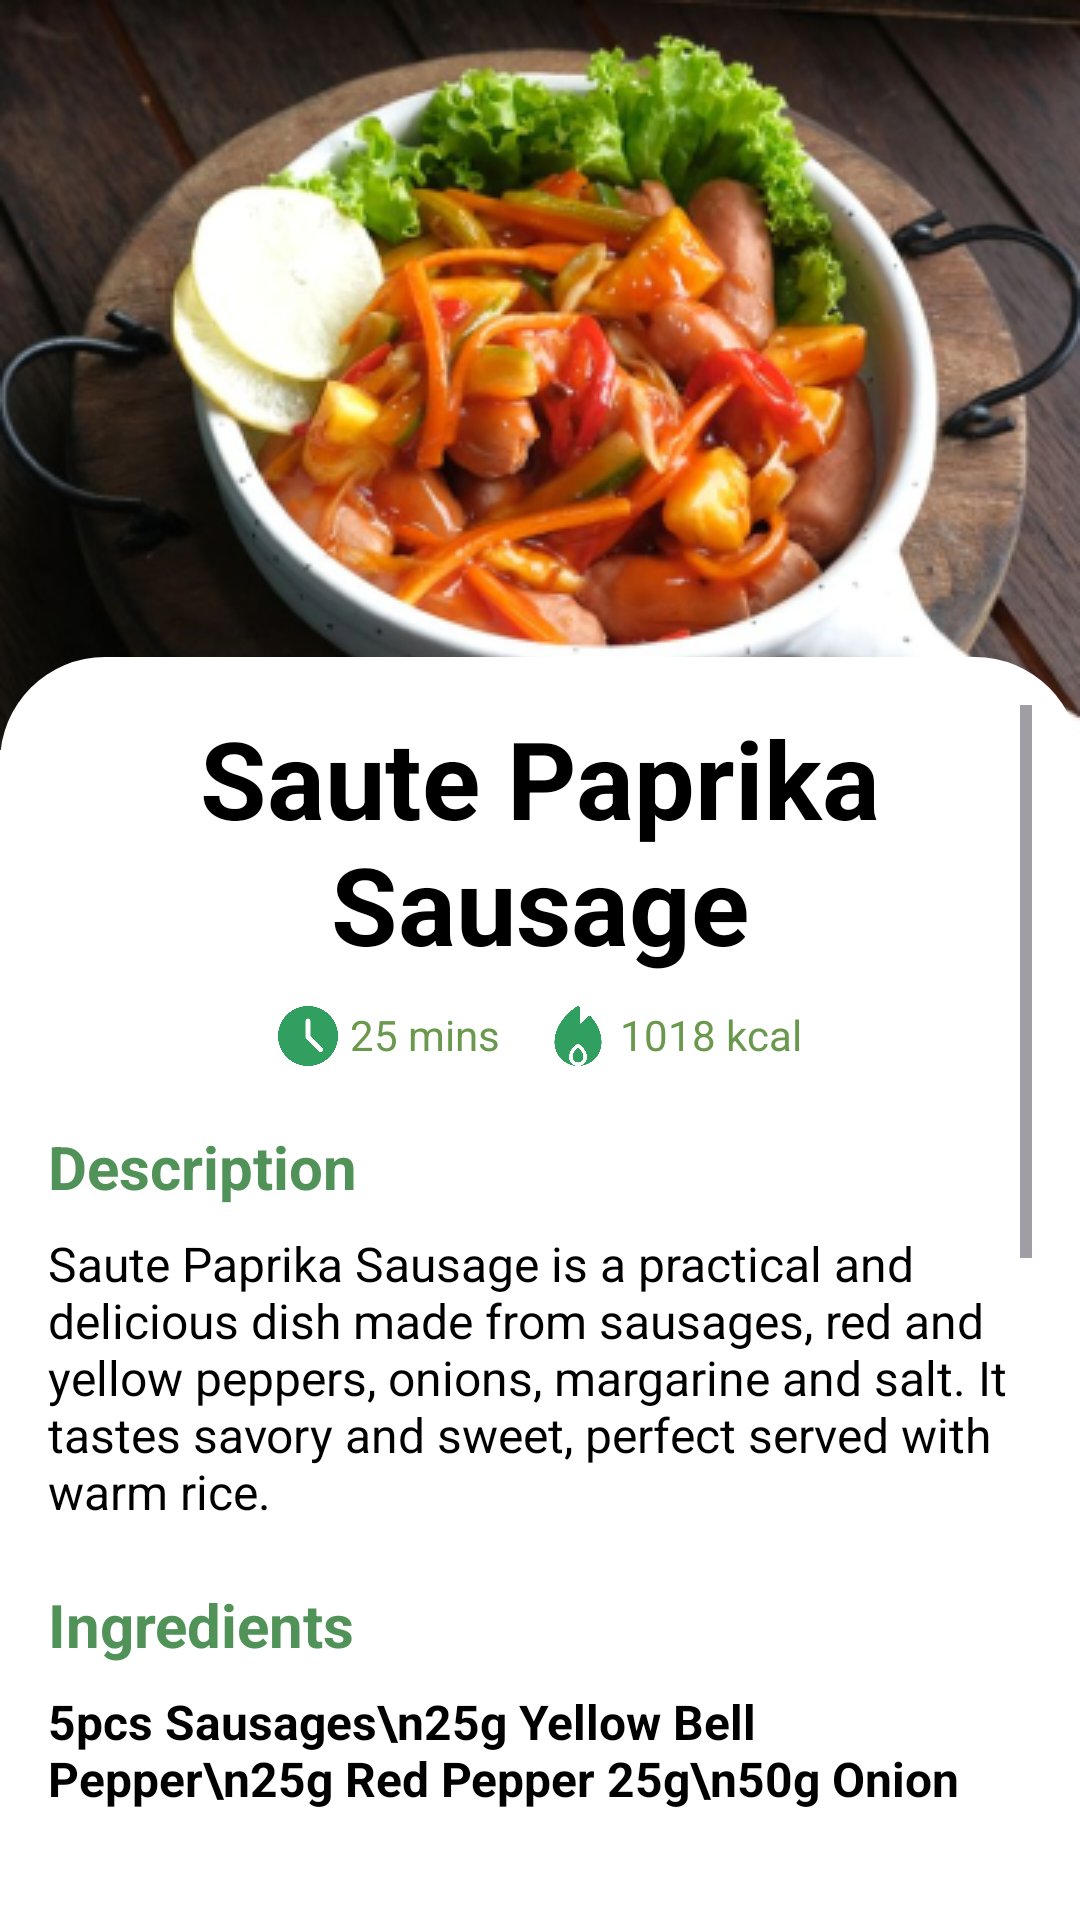

Icon bounding boxes for this 1080px x 1920px phone screenshot, format (x1, y1, x2, y2):
calicon: (554, 1006, 602, 1066)
timeicon: (278, 1006, 338, 1066)
